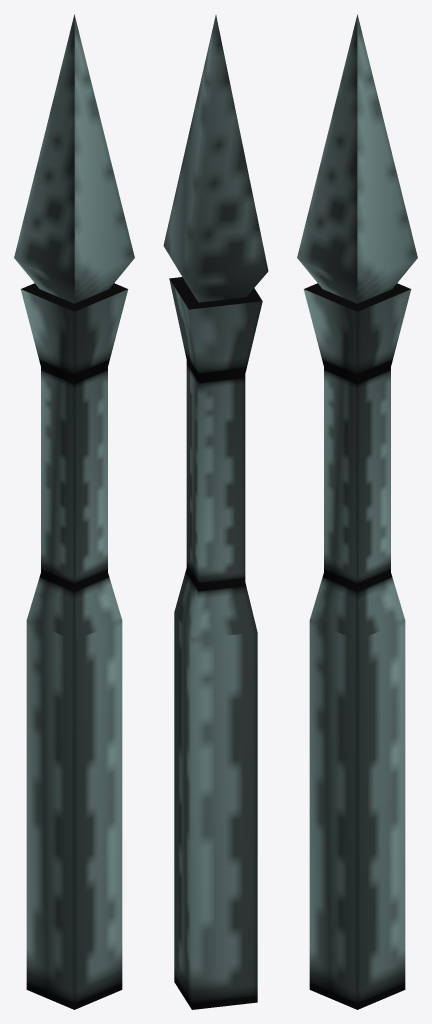
File: deco_cathedral_railingSmallEnd.FBX
The picture shows the model from 3 angles, left to right: view 1: azimuth 90°, elevation 25°; view 2: azimuth 150°, elevation 25°; view 3: azimuth 270°, elevation 25°; orthographic projection.
Parts seen in each view (by area): view 1: deco_cathedral_railingSmallEnd; view 2: deco_cathedral_railingSmallEnd; view 3: deco_cathedral_railingSmallEnd.
Part boxes in pixels (box(x1,y1,x2,y2)): deco_cathedral_railingSmallEnd: box(14, 14, 134, 1009); deco_cathedral_railingSmallEnd: box(163, 15, 268, 1009); deco_cathedral_railingSmallEnd: box(297, 14, 417, 1009).
Bounding box in the file's own units: 0.3594 × 3.2 × 0.3594.
1 material, 1 textured.
